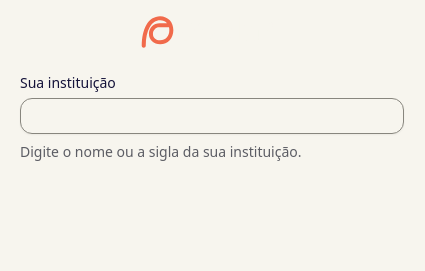
Test: escolha da instituição › só a resposta do último texto aparece
Type "abc" into the field labelled "Sua instituição" at (212, 116), box [20,98,404,134]
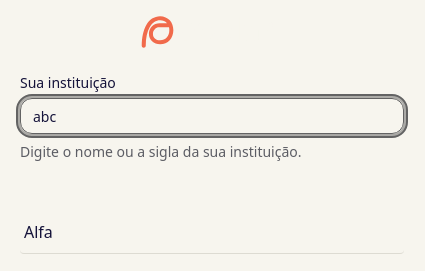
Check: the link "Alfa" is shown, box [20,210,404,254]
Type "d" into the field labelled "Sua instituição" at (212, 116), box [20,98,404,134]
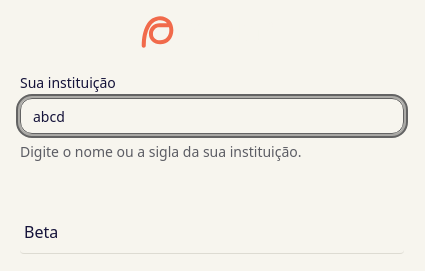
Check: the link "Beta" is shown, box [20,210,404,254]
Check: the link "Alfa" is gone
